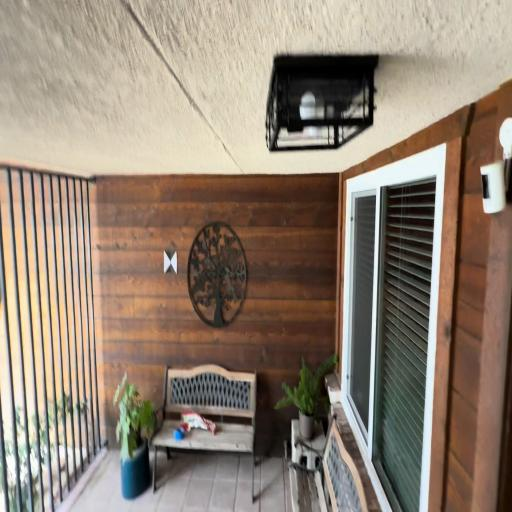target: (164, 249, 177, 274)
